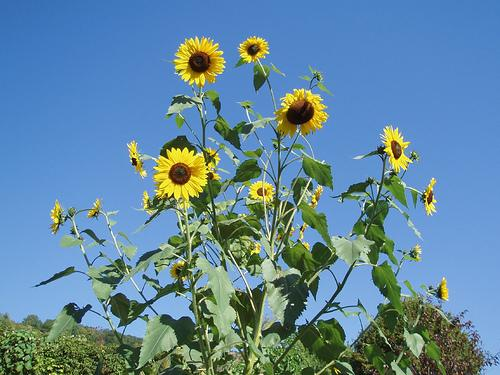sunflower: (173, 35, 224, 85), (235, 33, 267, 59)
